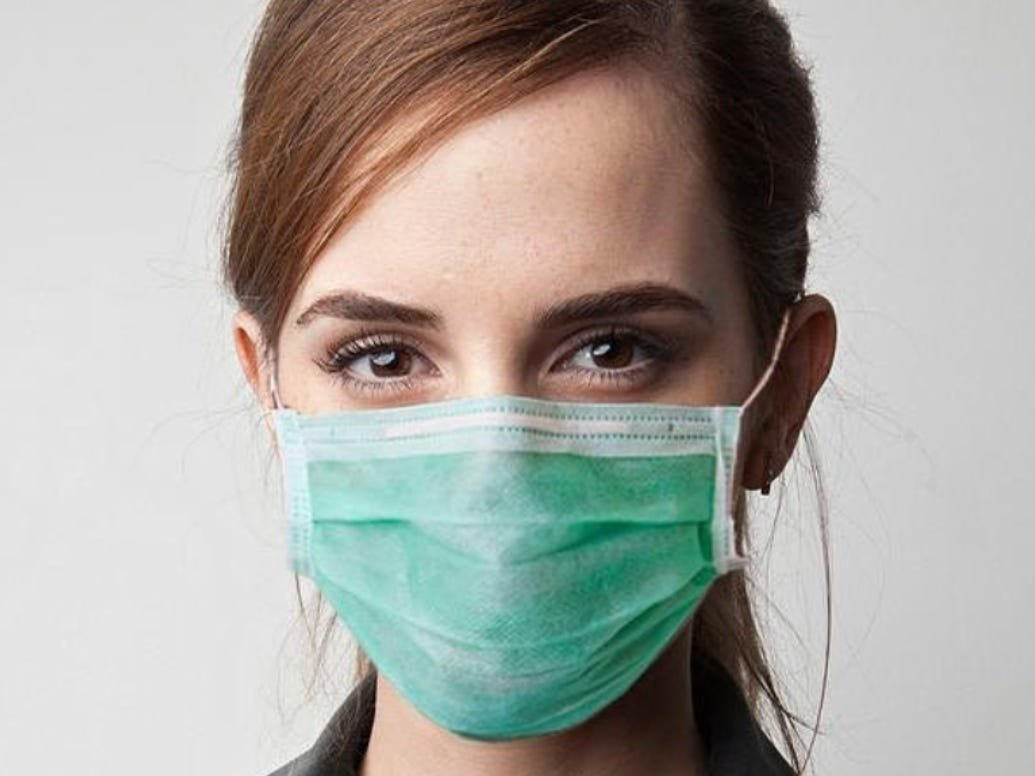mask: (191, 4, 835, 738)
